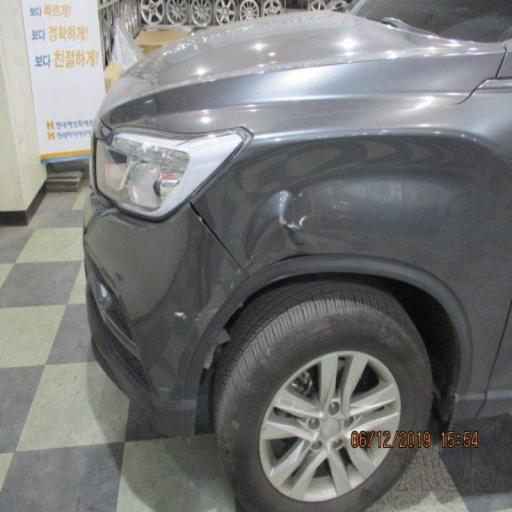dent: (182, 106, 510, 322)
